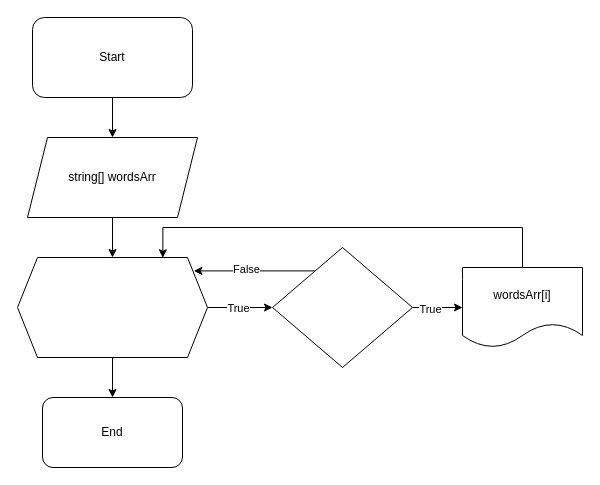
Some shapes in this 600 by 485 pixel diagram are drawn without their labels. The box of each missing label's shape, as (x1, y1, x2, y2) in pixels:
int i = 0; i < wordsArr.Length; i++: (16, 256, 208, 358)
wordsArr[i].Length > 4: (272, 246, 412, 368)
